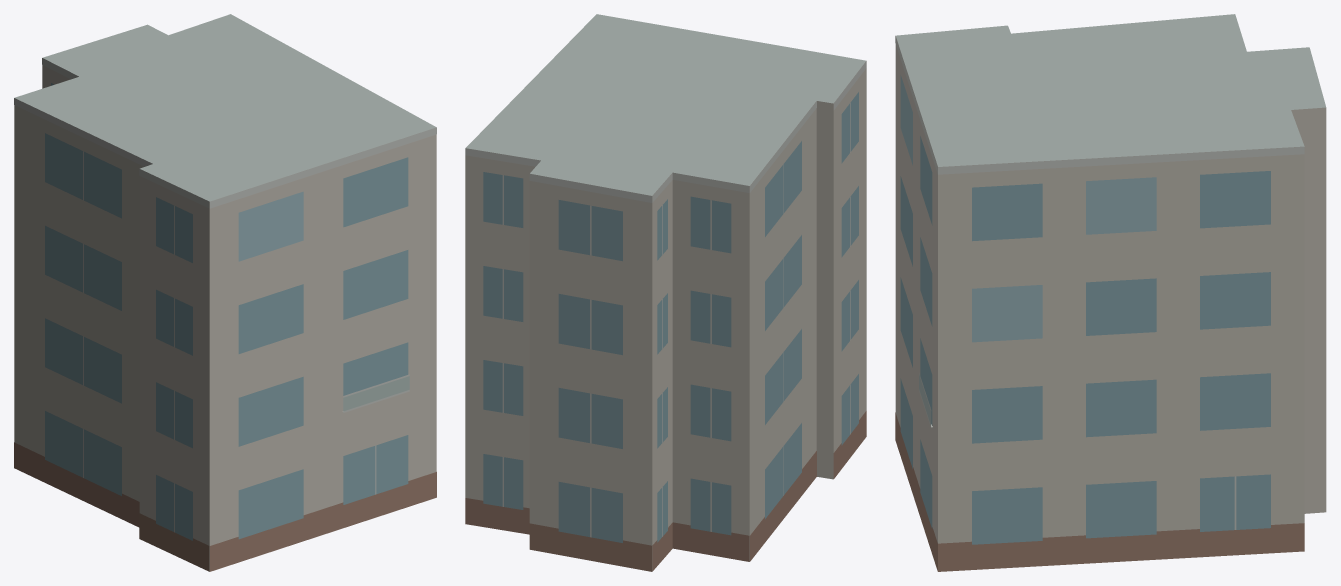
File: survey-upis-32893198.glb
The picture shows the model from 3 angles, left to right: view 1: azimuth 30°, elevation 25°; view 2: azimuth 150°, elevation 25°; view 3: azimuth 270°, elevation 25°; orthographic projection. The views are drawn at different scales.
Parts seen in each view (by area): view 1: survey-upis-32893198.tmp; view 2: survey-upis-32893198.tmp; view 3: survey-upis-32893198.tmp.
Boxes of the visible parts, x1=… form: survey-upis-32893198.tmp: x1=14, y1=14, x2=436, y2=571; survey-upis-32893198.tmp: x1=465, y1=14, x2=866, y2=571; survey-upis-32893198.tmp: x1=895, y1=14, x2=1326, y2=571.
Size of the model in its own units: 10.39 by 12.8 by 12.35.
